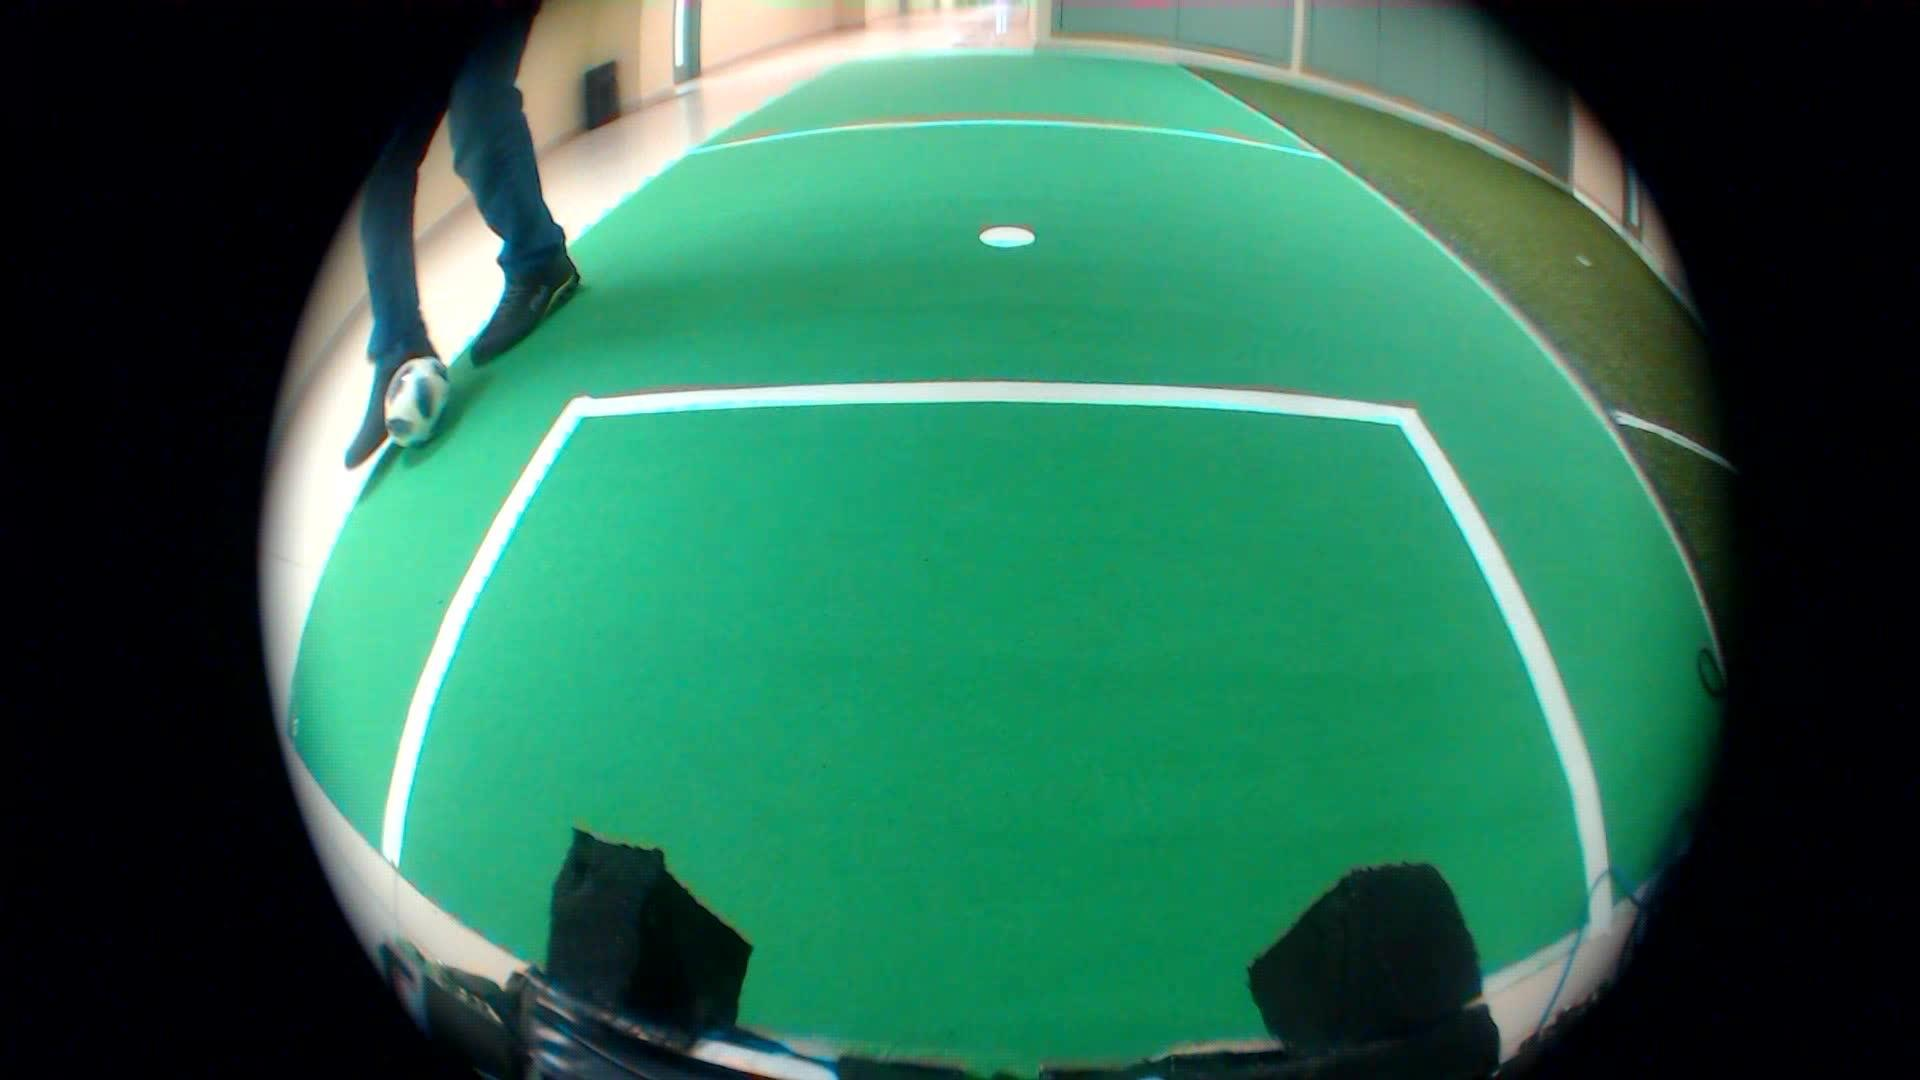ball: (371, 356, 465, 451)
